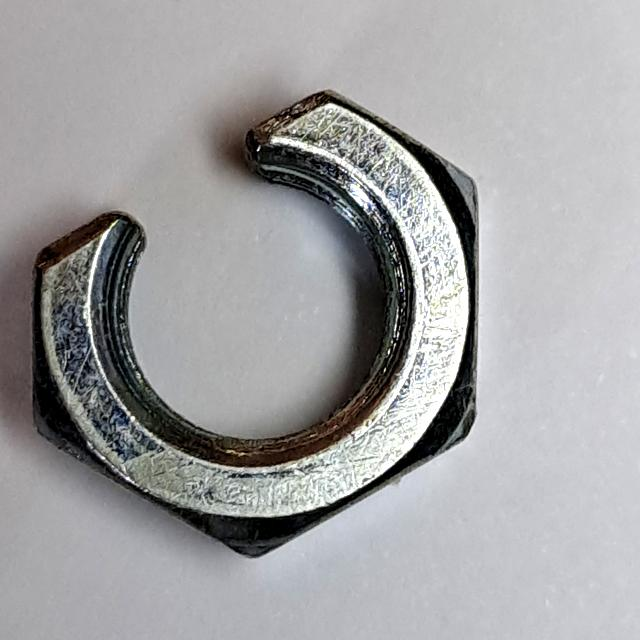Fracture: (19, 77, 496, 573)
